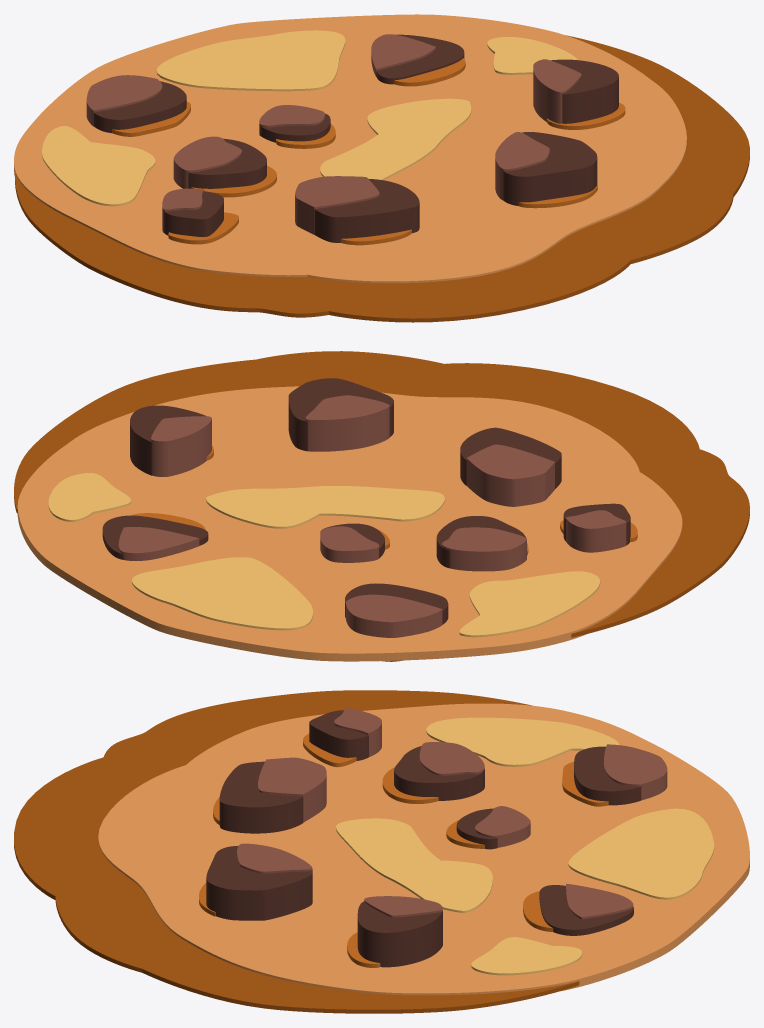
Rendered from emoji_u1f36a.glb.
3 views of the same model, one above another, from view 1: azimuth 30°, elevation 25°; view 2: azimuth 150°, elevation 25°; view 3: azimuth 270°, elevation 25° (orthographic). The views are drawn at different scales.
Parts seen in each view (by area): view 1: emoji_u1f36a; view 2: emoji_u1f36a; view 3: emoji_u1f36a.
Boxes of the visible parts, left/top/right/bottom form: emoji_u1f36a: left=14, top=14, right=749, bottom=322; emoji_u1f36a: left=14, top=351, right=749, bottom=661; emoji_u1f36a: left=14, top=690, right=749, bottom=1013.
Size of the model in its own units: 0.0339 by 0.004 by 0.033.
